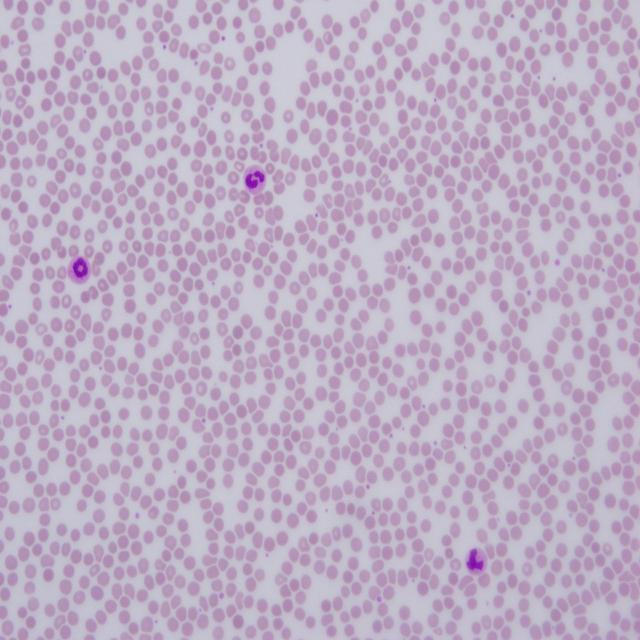cell: (244, 164, 266, 196), (68, 257, 91, 284), (466, 548, 486, 574)
